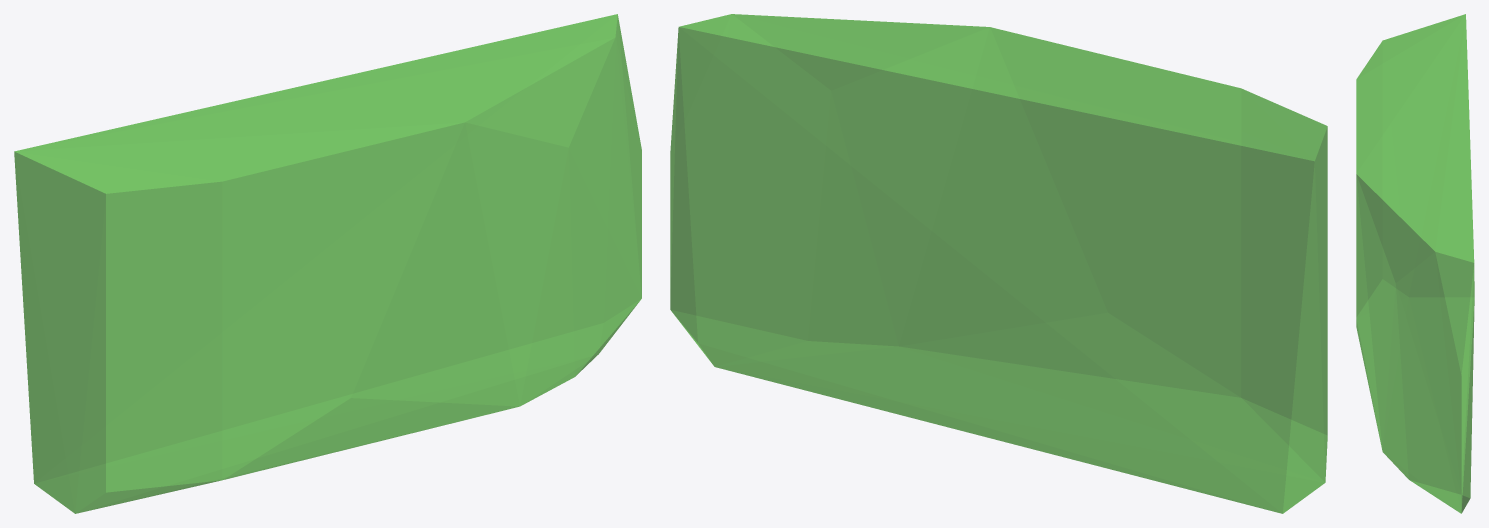
The picture shows the model from 3 angles, left to right: view 1: azimuth 30°, elevation 25°; view 2: azimuth 150°, elevation 25°; view 3: azimuth 270°, elevation 25°; orthographic projection. The views are drawn at different scales.
Parts seen in each view (by area): view 1: Shape_IndexedFaceSet.014_Shape_IndexedFaceSet.443; view 2: Shape_IndexedFaceSet.014_Shape_IndexedFaceSet.443; view 3: Shape_IndexedFaceSet.014_Shape_IndexedFaceSet.443.
Boxes of the visible parts, <box> form: Shape_IndexedFaceSet.014_Shape_IndexedFaceSet.443: <box>14,14,641,513</box>; Shape_IndexedFaceSet.014_Shape_IndexedFaceSet.443: <box>670,14,1327,513</box>; Shape_IndexedFaceSet.014_Shape_IndexedFaceSet.443: <box>1356,14,1474,513</box>.
Bounding box in the file's own units: 0.1856 × 0.0972 × 0.0382.
